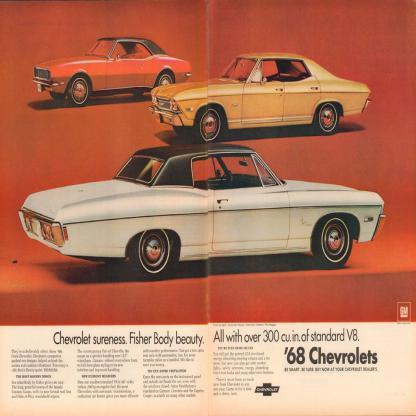car: (17, 142, 387, 281), (150, 52, 372, 142), (32, 36, 191, 107)
